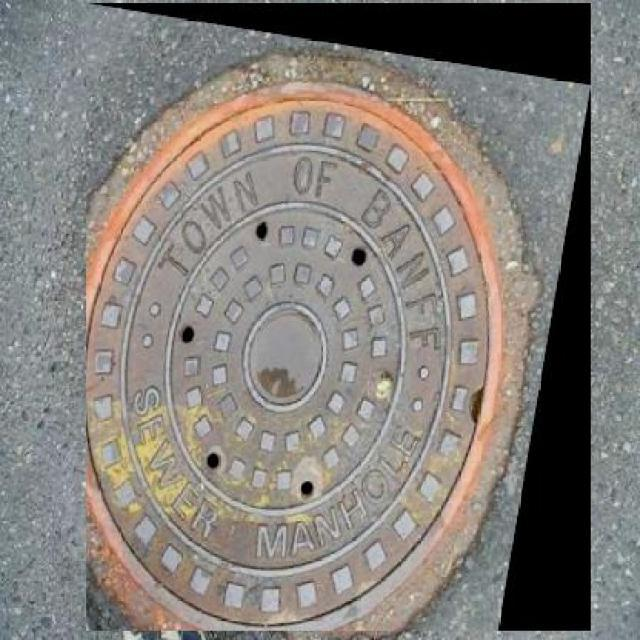Manhole: (86, 3, 592, 631)
